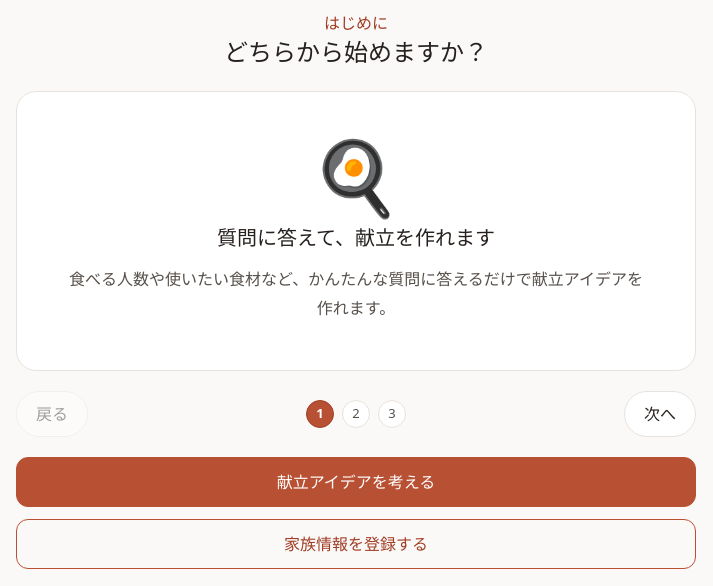
Scenario: 3枚の説明を順番に表示し、先頭と末尾では進めない向きを無効にする
Check: the heading "どちらから始めますか？" is shown, box top-left (224, 40), bottom-right (488, 66)
Check: the heading "質問に答えて、献立を作れます" is shown, box top-left (217, 227), bottom-right (495, 249)
Click the button "次へ" at [660, 414], box top-left (624, 391), bottom-right (696, 437)
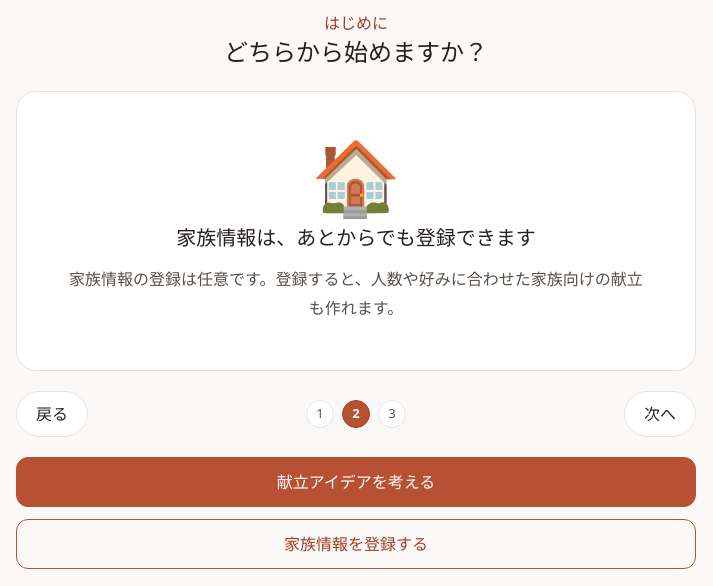
Check: the text "家族情報の登録は任意です。登録すると、人数や好みに合わせた家族向けの献立も作れます。" is shown, box top-left (68, 265), bottom-right (644, 322)
Check: the list named "チュートリアル 2 / 3" is shown, box top-left (306, 400), bottom-right (406, 428)
Check: the button "戻る" is enabled, box top-left (16, 391), bottom-right (88, 437)
Click the button "次へ" at [660, 414], box top-left (624, 391), bottom-right (696, 437)
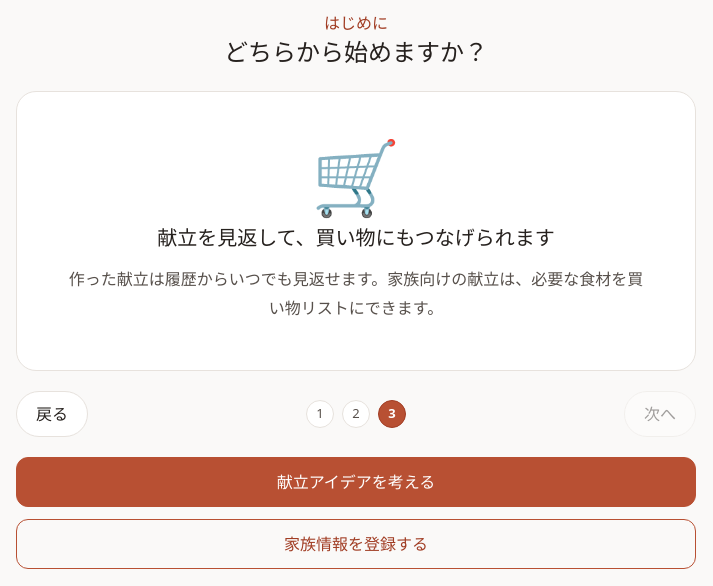
Check: the text "作った献立は履歴からいつでも見返せます。家族向けの献立は、必要な食材を買い物リストにできます。" is shown, box top-left (68, 265), bottom-right (644, 322)
Check: the list named "チュートリアル 3 / 3" is shown, box top-left (306, 400), bottom-right (406, 428)
Check: the button "次へ" is disabled, box top-left (624, 391), bottom-right (696, 437)
